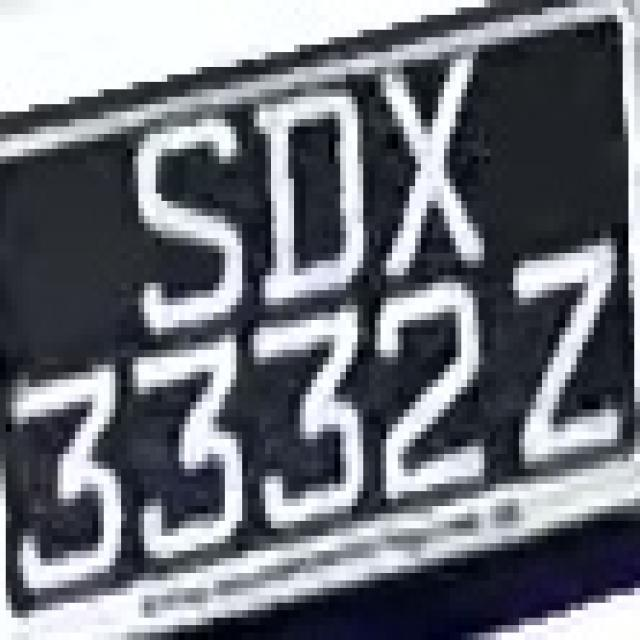2: (363, 275, 502, 506)
3: (230, 290, 374, 536), (121, 320, 254, 573), (6, 350, 127, 595)
D: (242, 67, 381, 313)
S: (115, 74, 254, 335)
X: (358, 30, 502, 290)
Z: (484, 245, 628, 469)
